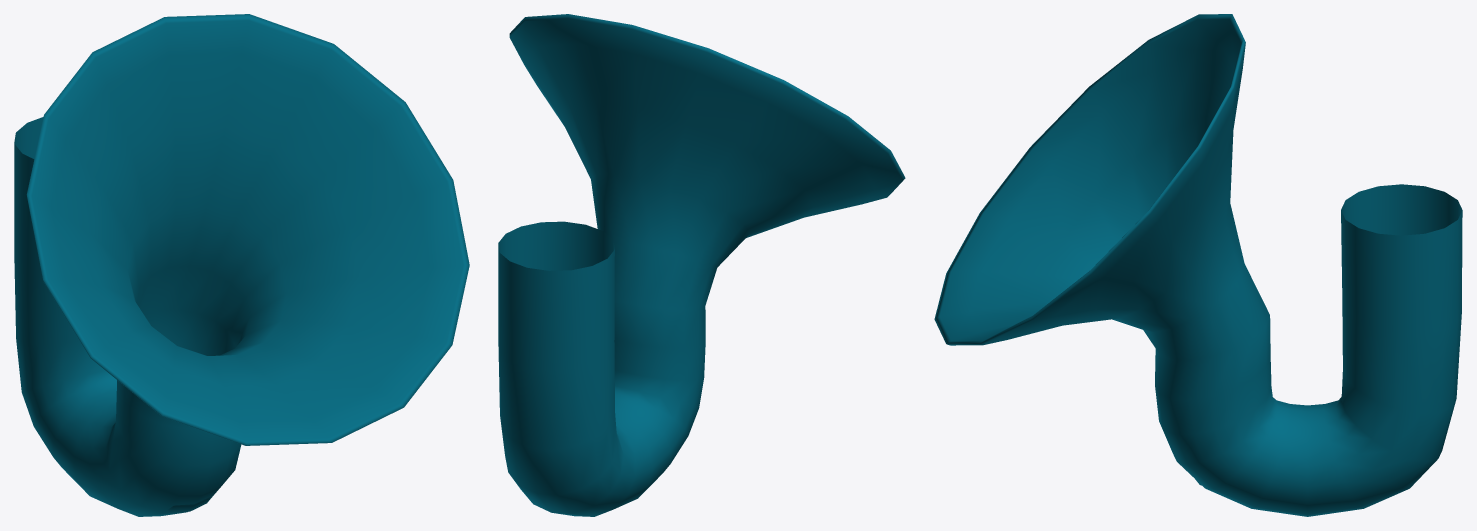
File: Fruit_Intake_Tube.fbx
The picture shows the model from 3 angles, left to right: view 1: azimuth 30°, elevation 25°; view 2: azimuth 150°, elevation 25°; view 3: azimuth 270°, elevation 25°; orthographic projection. The views are drawn at different scales.
Visible parts, largest first — view 1: IntakeFunnel; view 2: IntakeFunnel; view 3: IntakeFunnel.
Boxes of the visible parts, bbox=[...] form: IntakeFunnel: bbox=[14, 14, 469, 516]; IntakeFunnel: bbox=[498, 14, 905, 516]; IntakeFunnel: bbox=[934, 14, 1462, 516].
Bounding box in the file's own units: 52.3 × 62.2 × 63.04.
